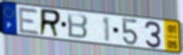1: (101, 16, 110, 43)
3: (143, 20, 162, 49)
5: (121, 17, 139, 46)
B: (66, 12, 89, 41)
E: (17, 6, 41, 37)
R: (38, 7, 62, 39)
